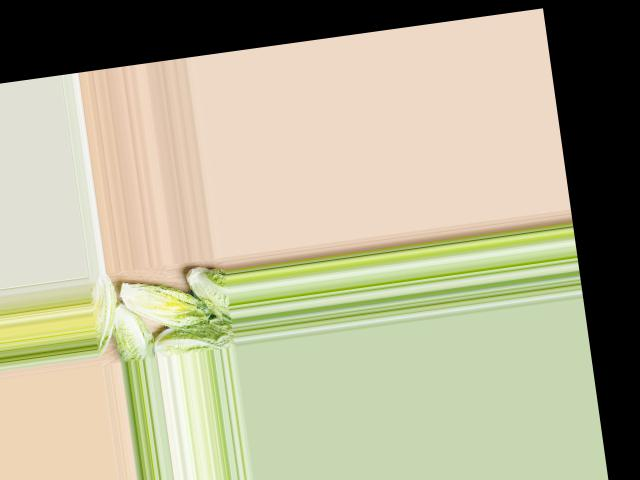lettuce: (87, 273, 125, 355)
